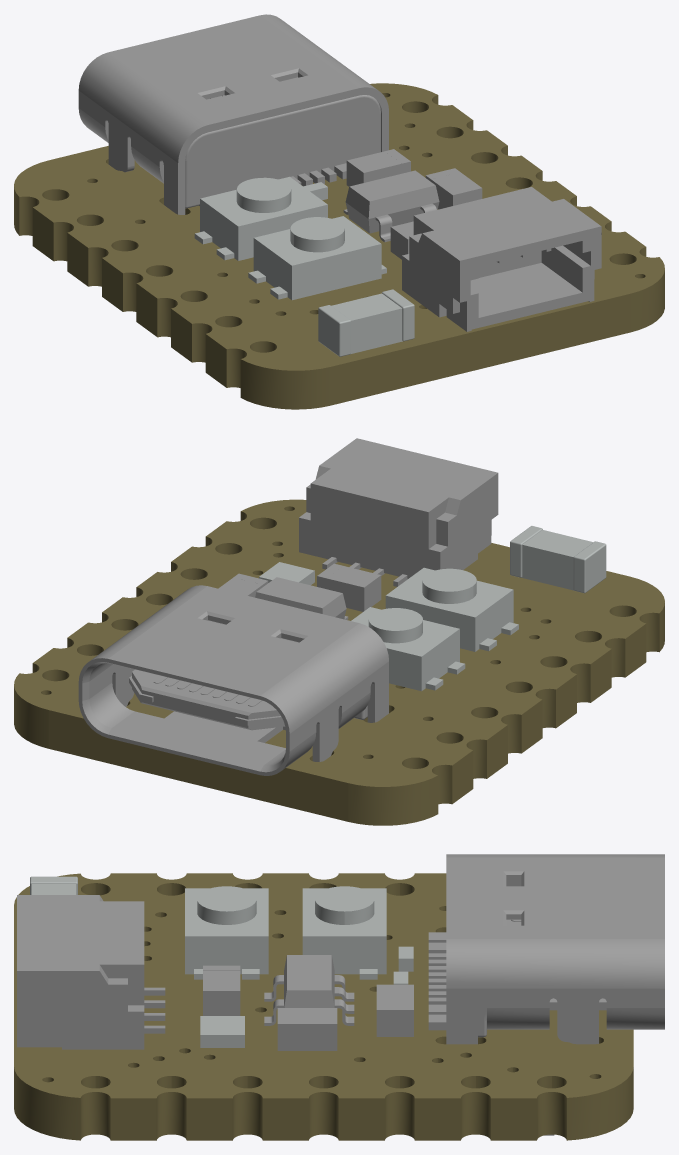
The model's file is adafruit-qtpy-esp32-c3-5405.glb.
3 views of the same model, one above another, from view 1: azimuth 30°, elevation 25°; view 2: azimuth 150°, elevation 25°; view 3: azimuth 270°, elevation 25° (orthographic). The views are drawn at different scales.
Parts seen in each view (by area): view 1: PCB, X6, CONN1, Q2, Q1, U1, CAD_GEOMETRY_UNIDENTIFIED, X1, C1, C6, C8; view 2: PCB, X6, CONN1, Q2, Q1, CAD_GEOMETRY_UNIDENTIFIED, X1, U1, C8, LED1, C6; view 3: PCB, X6, CONN1, Q2, Q1, U1, C6, C1, C8, LED1, CAD_GEOMETRY_UNIDENTIFIED, X1.
Part boxes in pixels (x1,y1,x2,y2): PCB: (14,83,664,409); X6: (78,14,388,214); CONN1: (402,187,601,331); Q2: (253,216,381,300); Q1: (200,176,327,260); U1: (343,170,439,242); CAD_GEOMETRY_UNIDENTIFIED: (194,182,414,356); X1: (331,293,402,353); C1: (346,149,410,186); C6: (425,168,482,209); C8: (390,221,413,259); PCB: (14,499,664,825); X6: (78,585,388,775); CONN1: (299,438,498,586); Q2: (385,567,513,651); Q1: (351,607,459,691); CAD_GEOMETRY_UNIDENTIFIED: (425,526,606,690); X1: (522,530,593,590); U1: (255,577,348,619); C8: (317,563,381,611); LED1: (259,562,314,585); C6: (218,573,268,597); PCB: (14,873,633,1140); X6: (428,854,664,1044); CONN1: (17,895,165,1049); Q2: (185,886,268,974); Q1: (302,886,386,974); U1: (264,955,354,1025); C6: (277,1008,337,1050); C1: (376,984,413,1036); C8: (203,965,240,1015); LED1: (200,1016,244,1047); CAD_GEOMETRY_UNIDENTIFIED: (30,876,413,984); X1: (31,884,76,894).
Bounding box in the file's own units: 0.0178 × 0.00589 × 0.0217.
